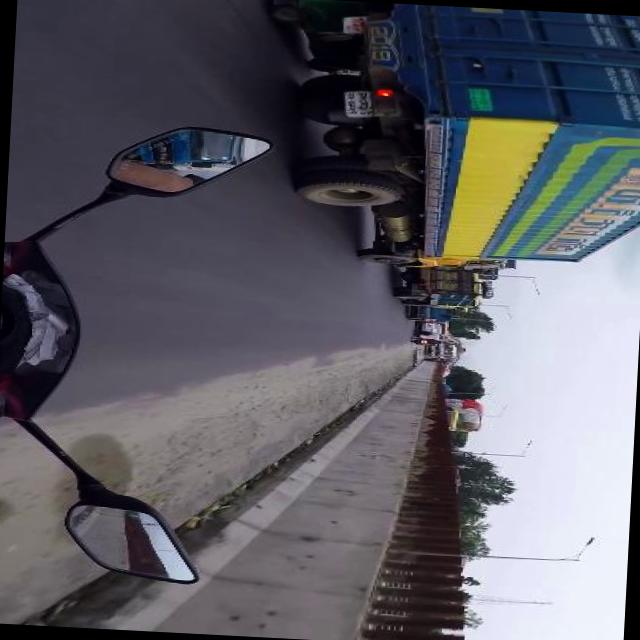car: (417, 320, 444, 336)
motorcycle: (0, 114, 282, 591), (265, 0, 351, 73), (412, 336, 442, 346)
truck: (293, 0, 640, 280), (392, 266, 494, 308), (406, 306, 454, 322), (450, 397, 468, 430), (427, 342, 458, 358)
